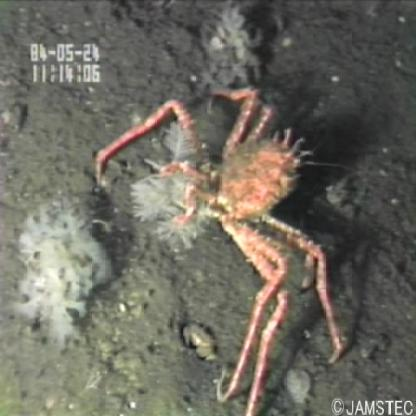Bio: (88, 82, 348, 416)
